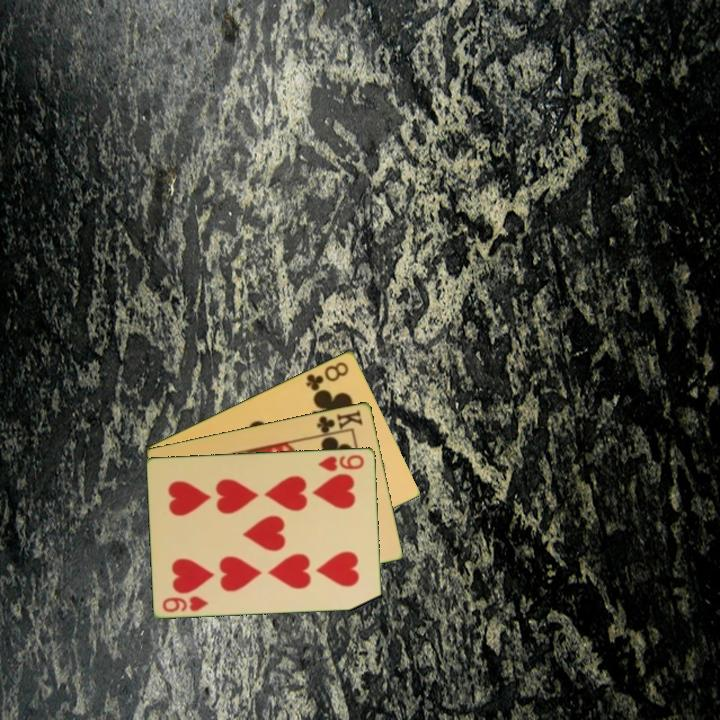8c: (303, 358, 352, 394)
9h: (159, 592, 212, 615), (315, 451, 367, 474)
Kc: (313, 406, 366, 438)
